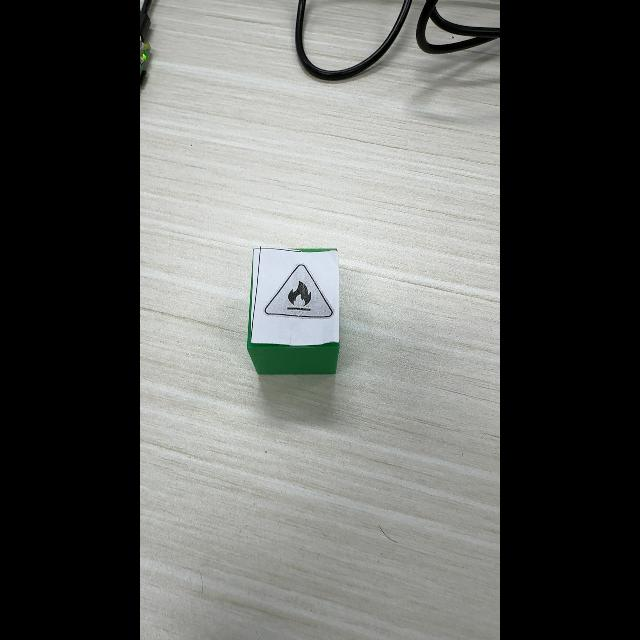Fire: (264, 264, 334, 318)
